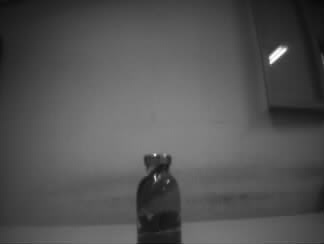Bottle: (135, 152, 183, 244)
